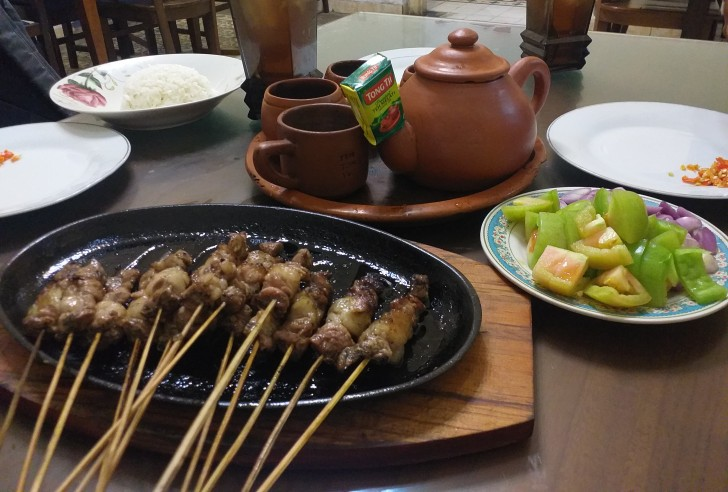sate: (26, 226, 454, 376)
